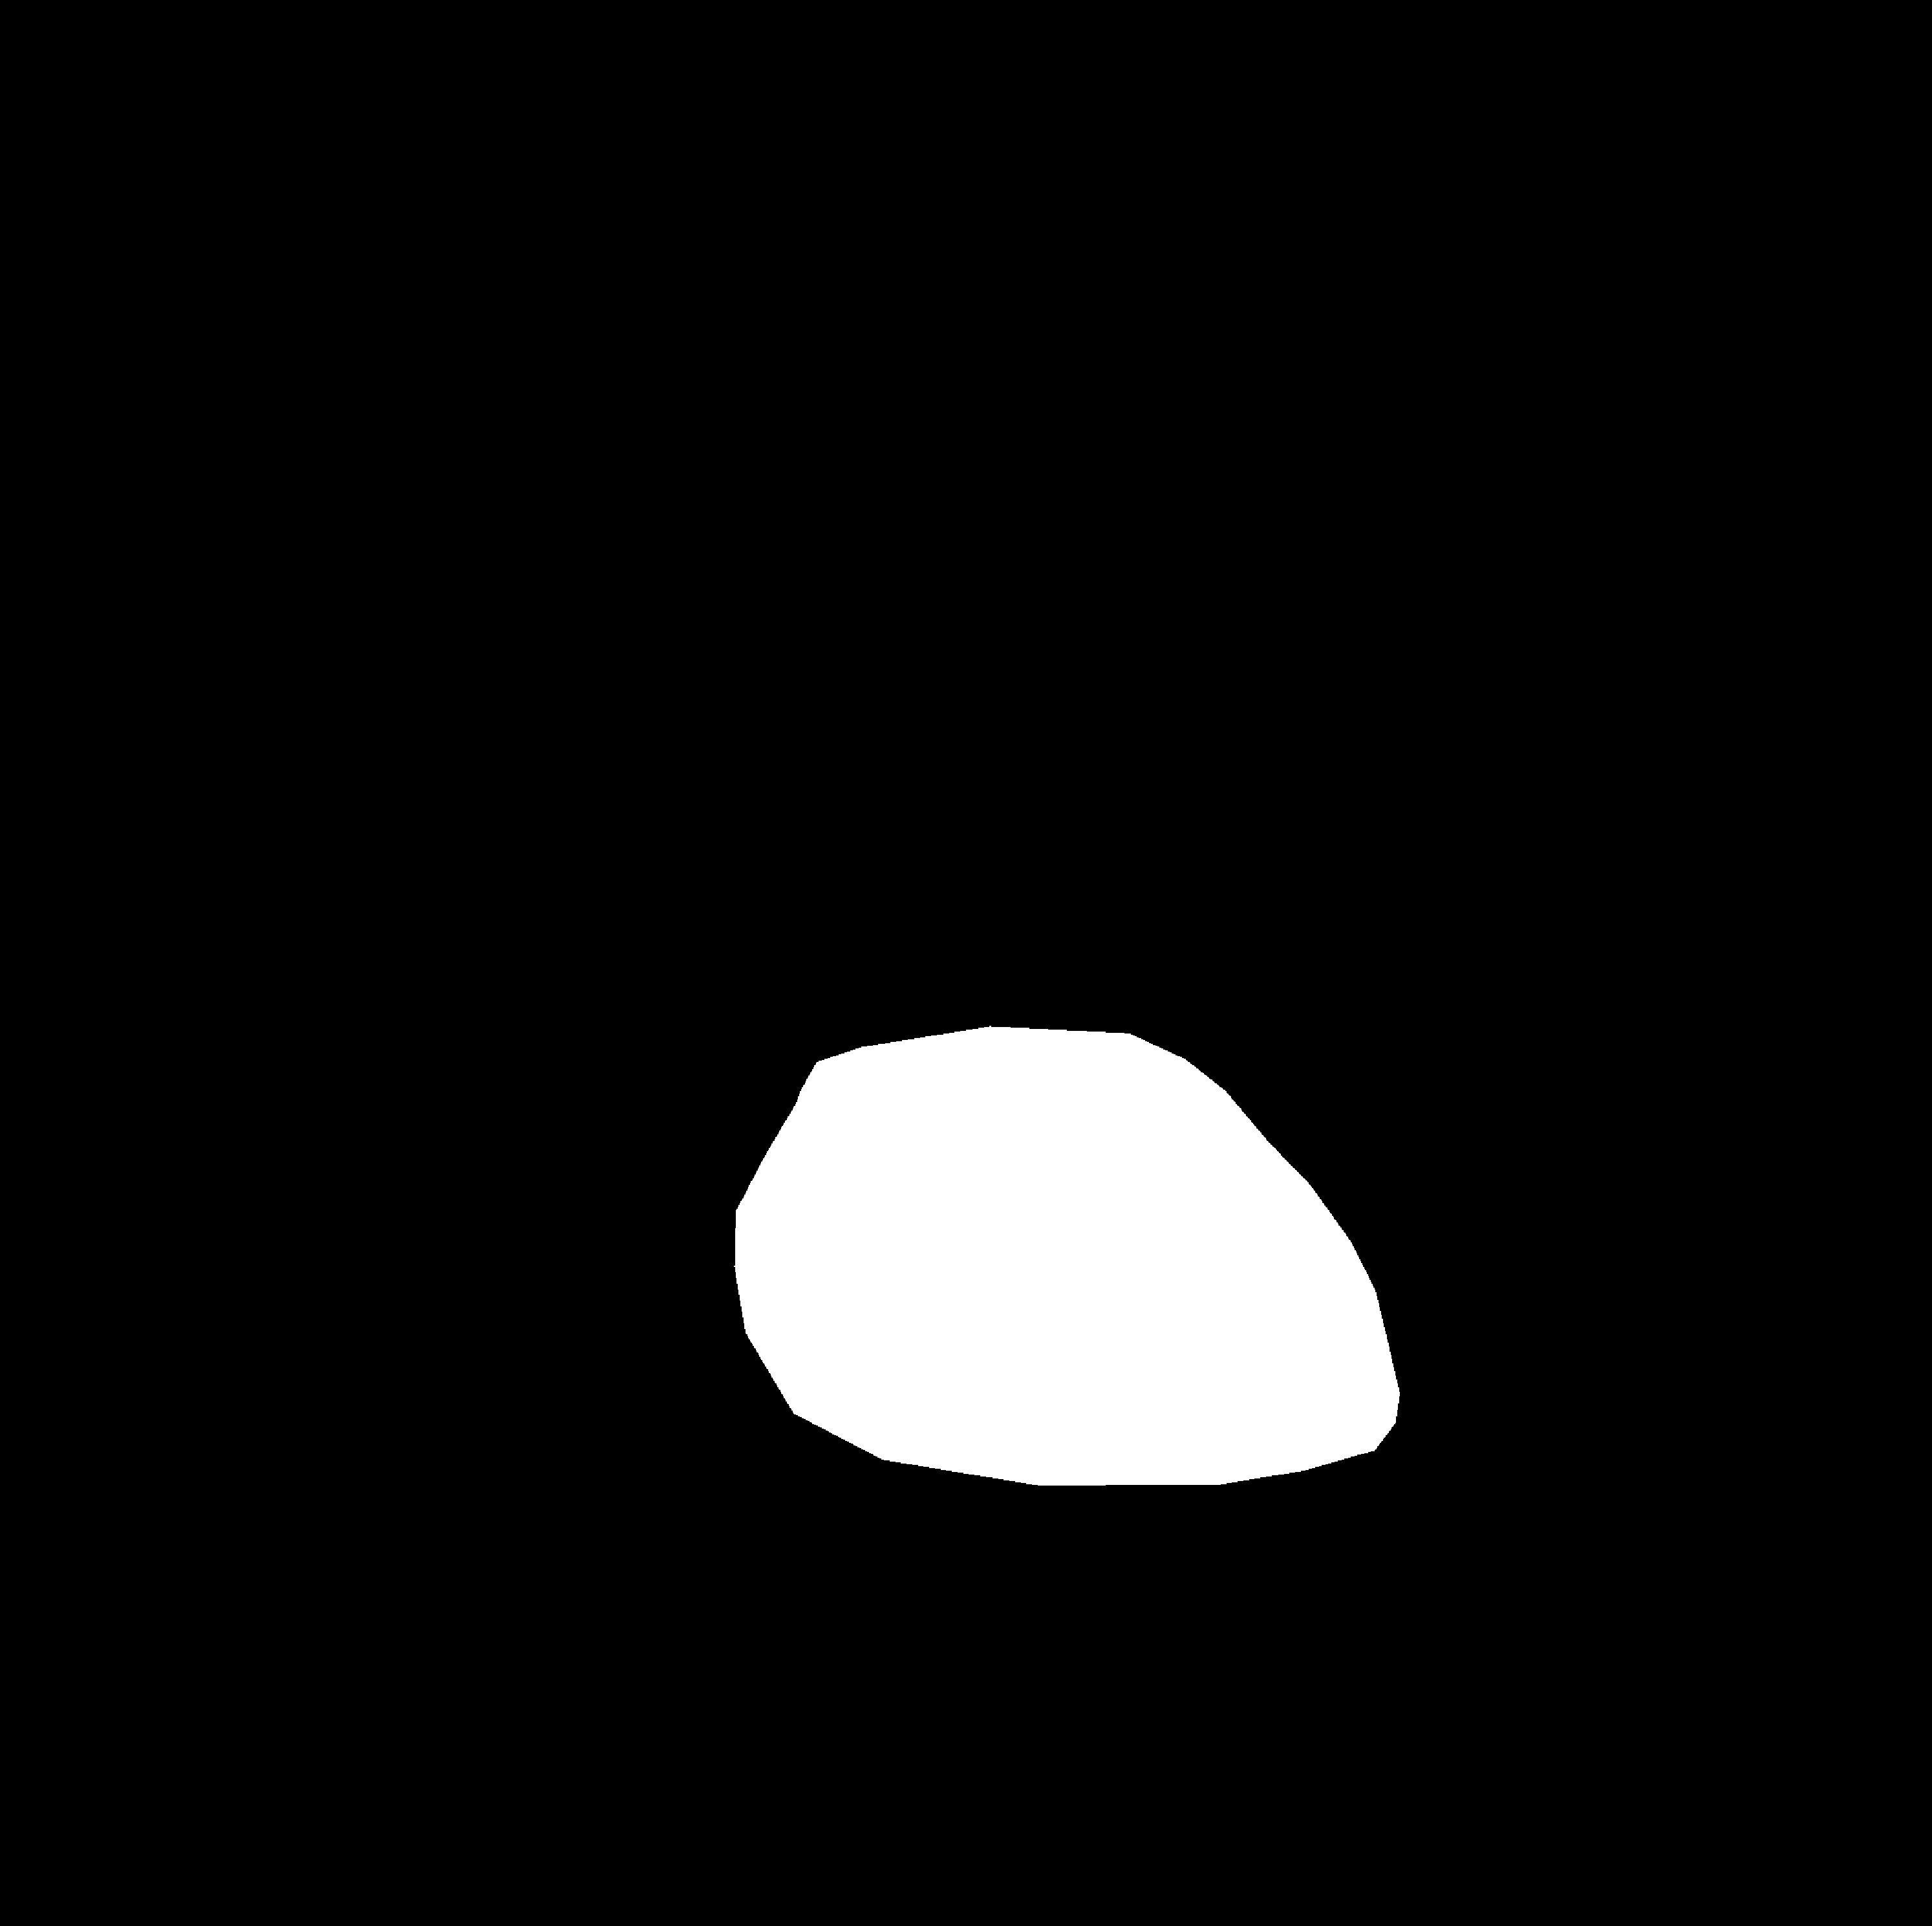heart: (735, 1086, 1403, 1547)
left_lung: (264, 414, 895, 1524)
right_lung: (1058, 411, 1611, 1596)
